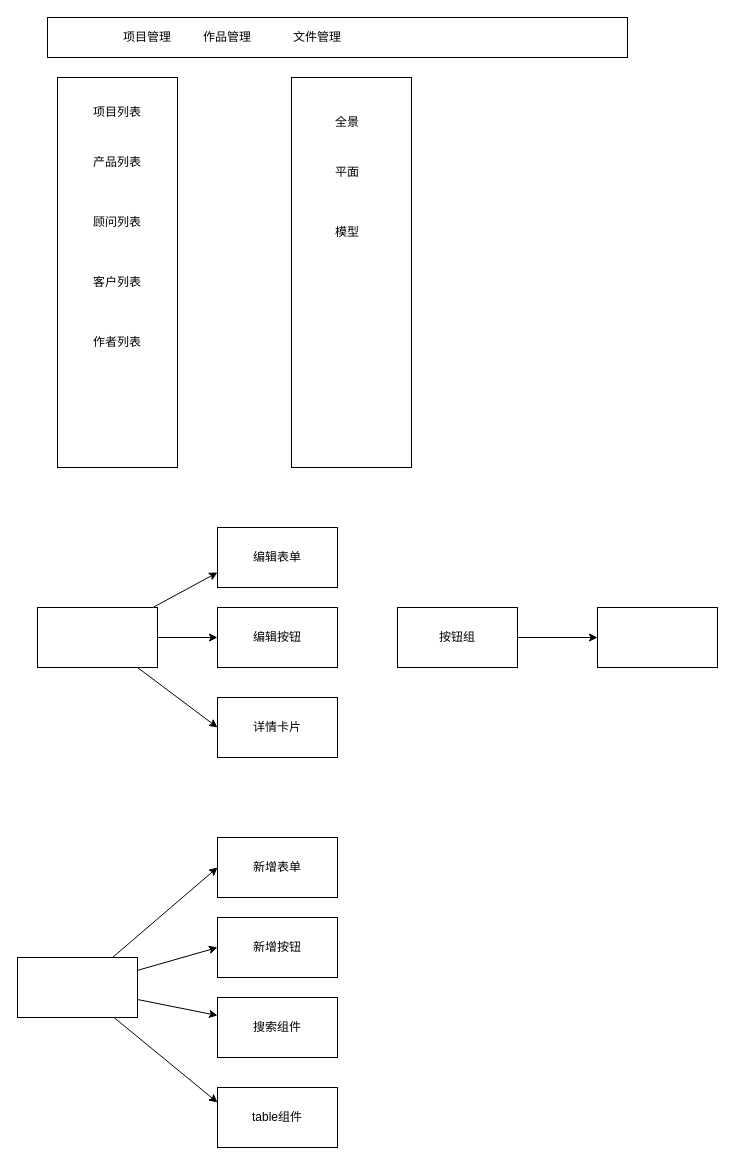
This 735x1165 diagram has some shape labels left out. Each missing label, with the centre of its shape:
"job" goes at point (657, 637).
"仪表板" goes at point (97, 637).
"列表" goes at point (77, 987).
